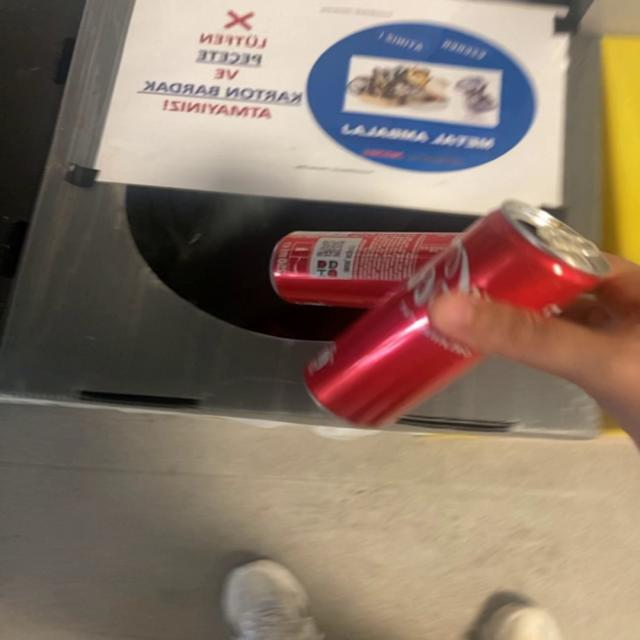bin: (2, 0, 557, 425), (408, 360, 601, 439), (543, 29, 604, 240)
metal: (273, 201, 610, 427)
